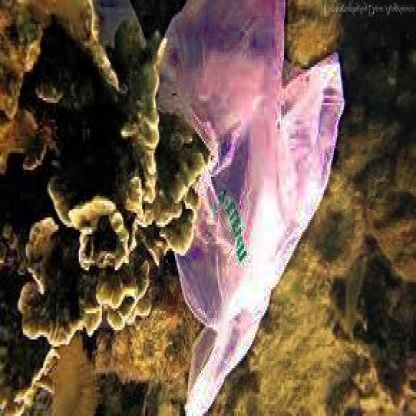pbag: (134, 2, 349, 416)
